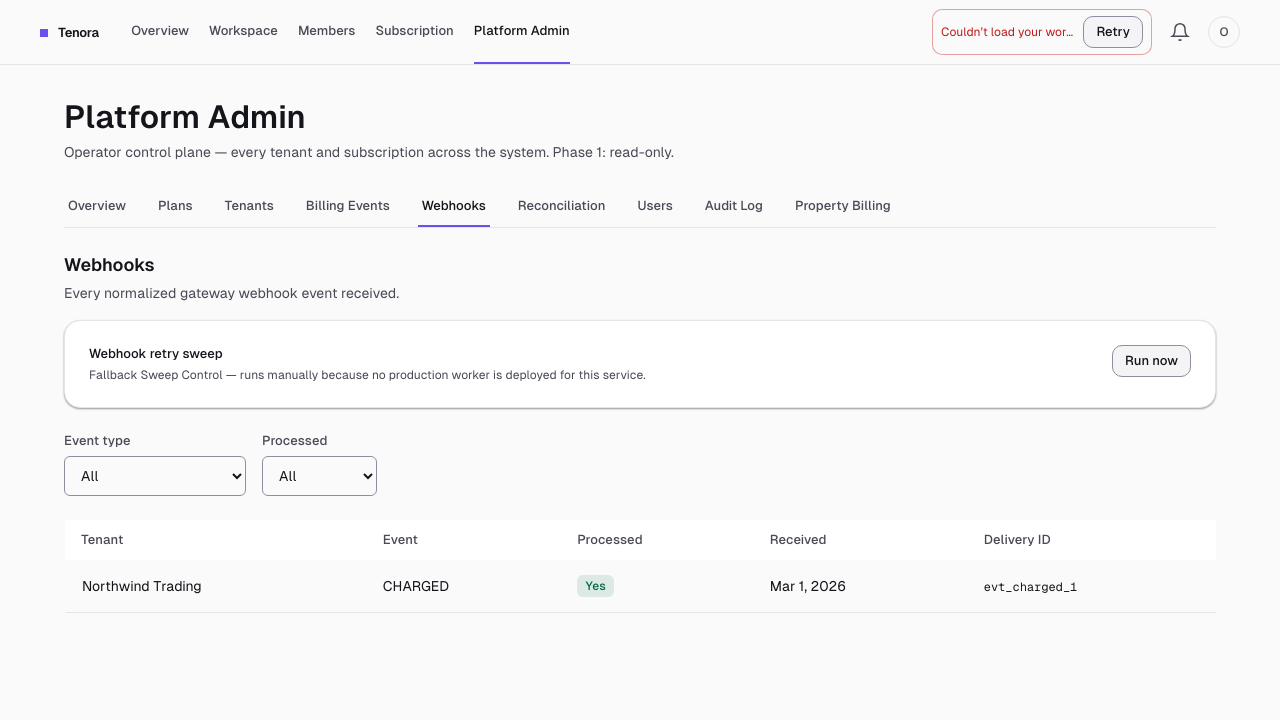
Test case: WebhooksPage — fallback sweep control (Phase 2) › a sweep failure renders an error and does not falsely claim success
Check: the text "Fallback Sweep Control" is shown, box [89,368,646,382]
Click the button "Run now": (1152, 361) [1112,345,1191,377]
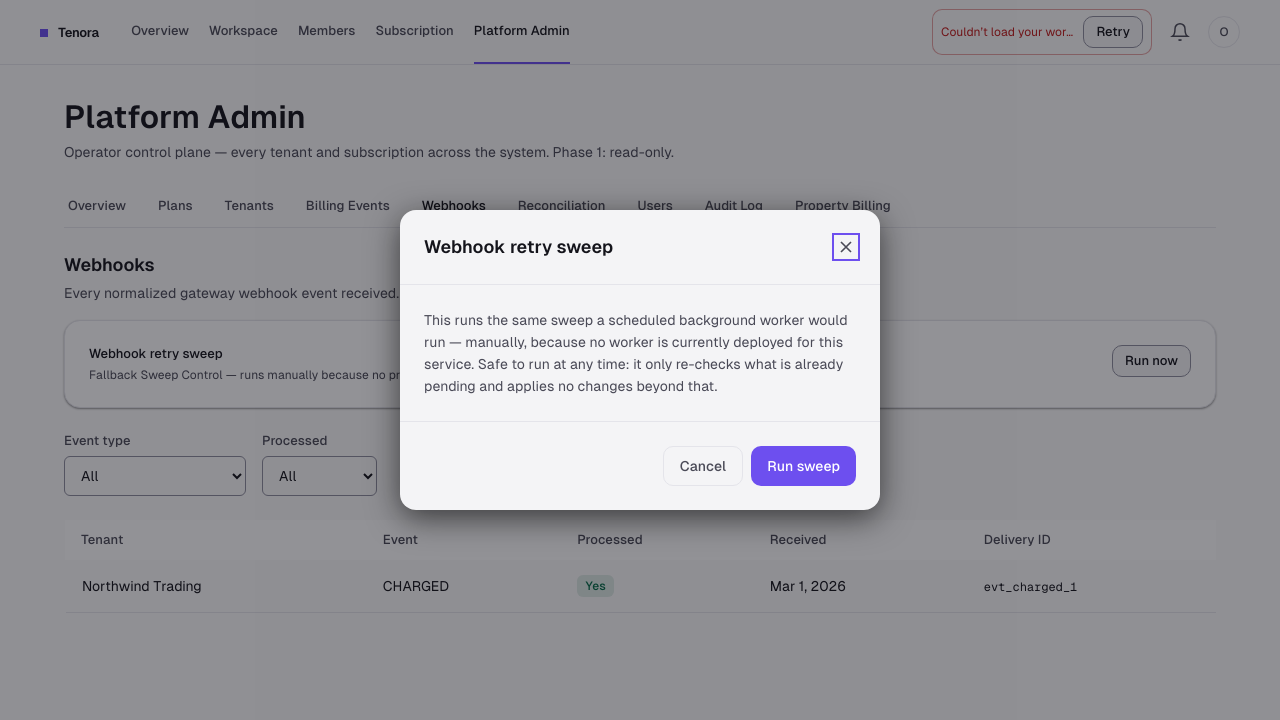
Check: the dialog "Webhook retry sweep" is shown, box [400,210,880,510]
Click the button "Run sweep": (804, 466) [751,446,856,486]
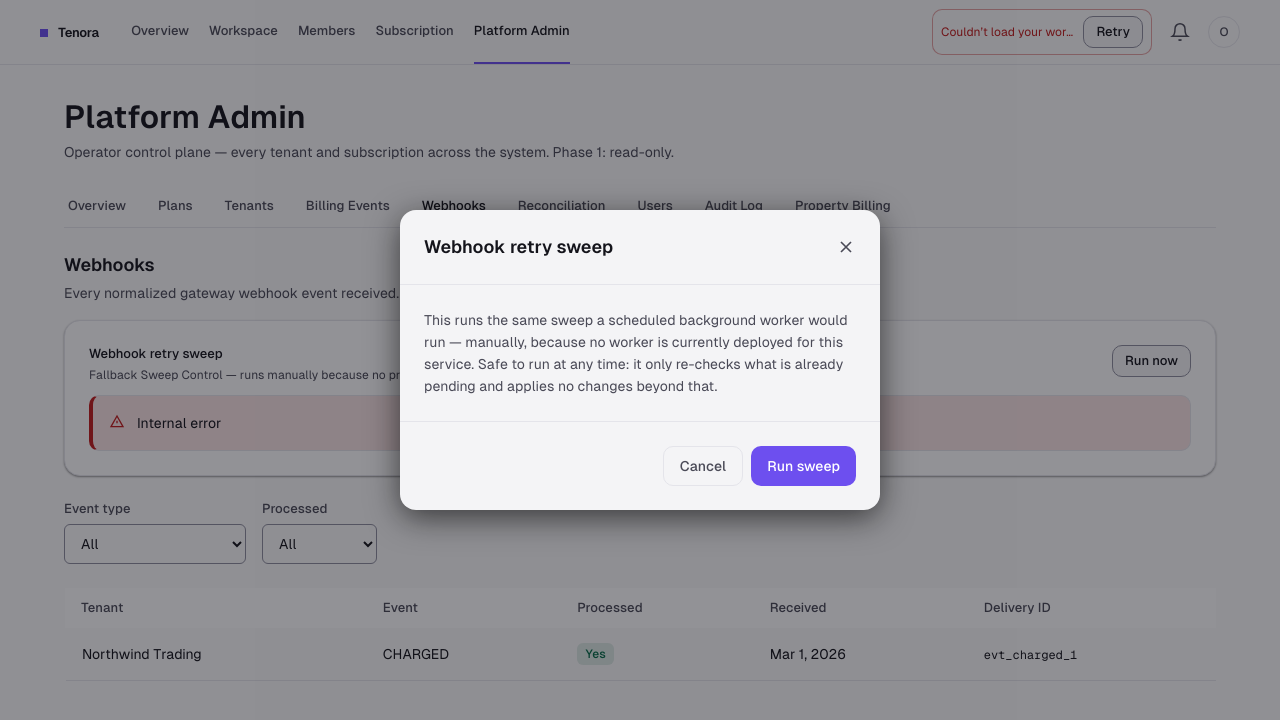
Check: the text "Internal error" is shown, box [137,415,221,431]
